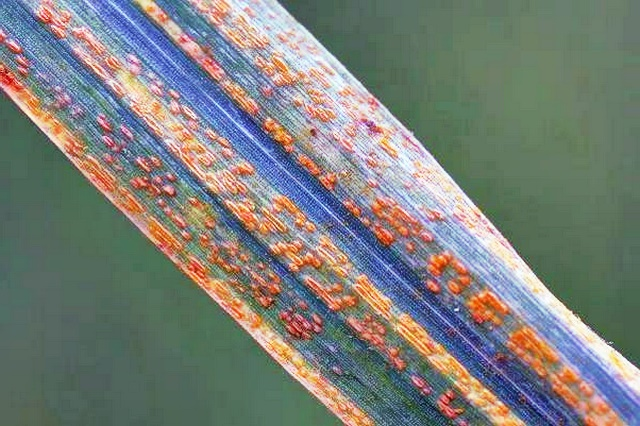Leaf Rust: (56, 23, 568, 418)
